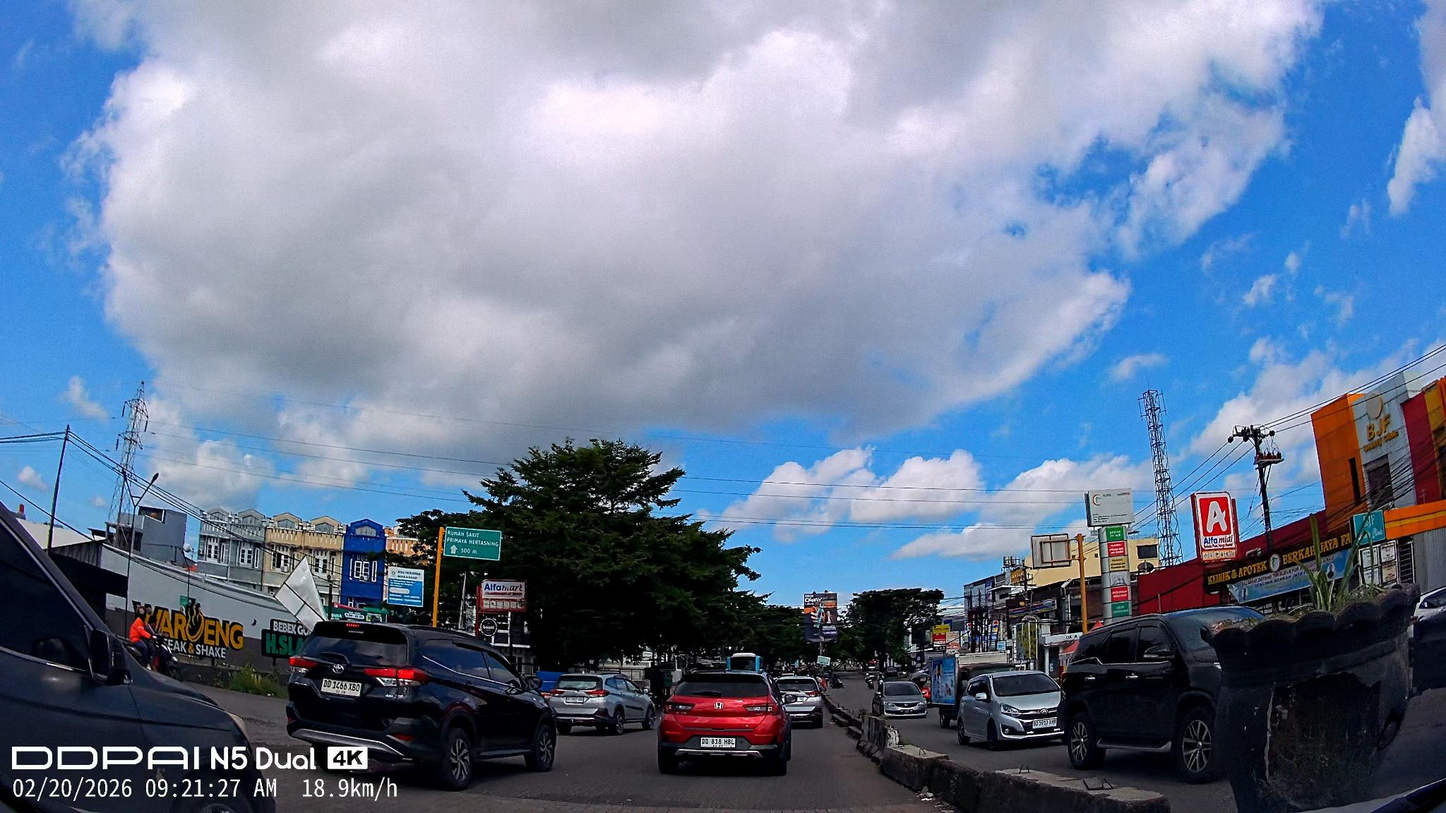rambu_teks: (443, 526, 502, 561)
